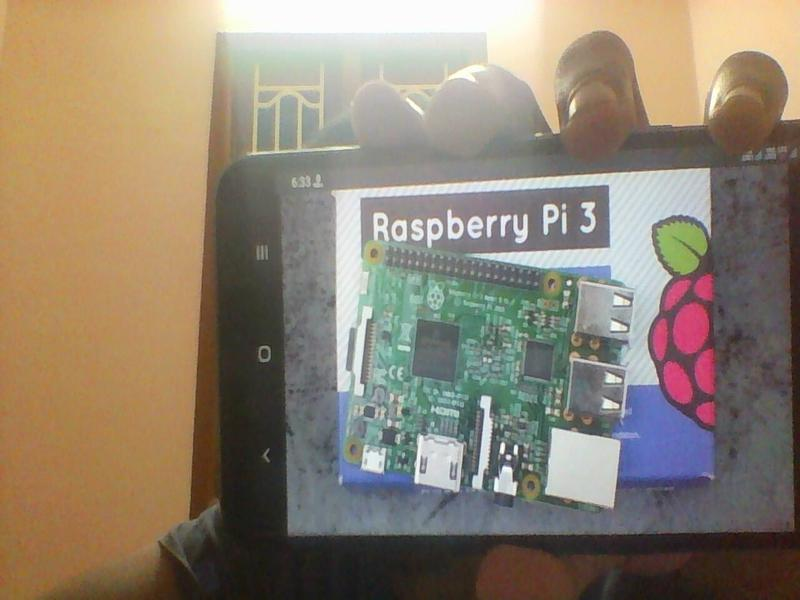aud: (491, 436, 522, 509)
eth: (545, 427, 623, 512)
usb: (565, 356, 630, 420), (571, 280, 635, 343)
